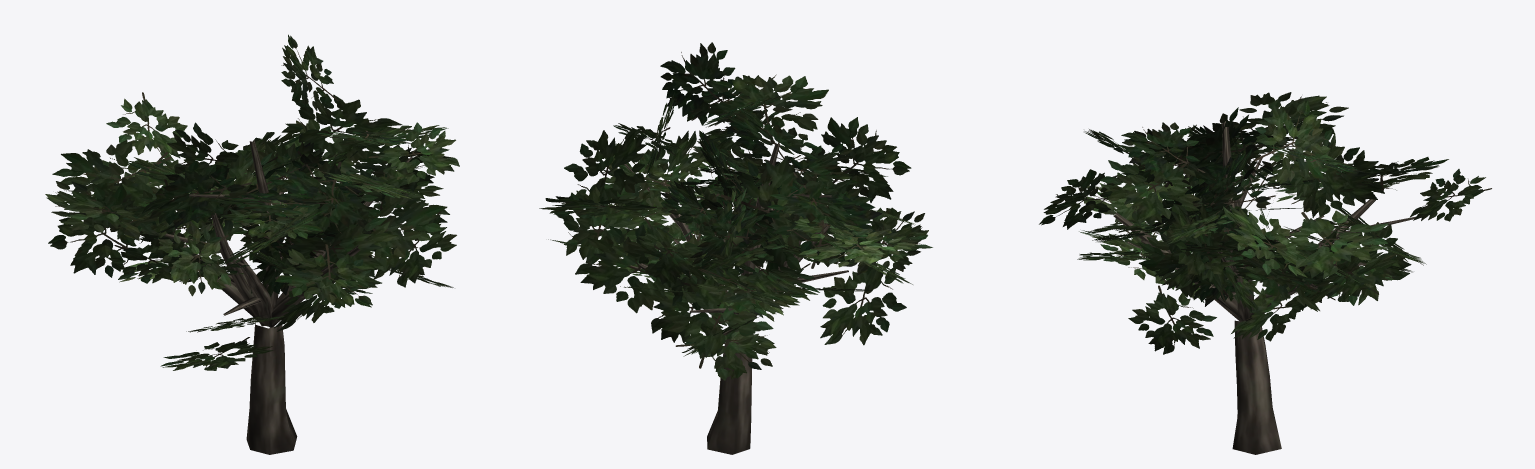
Rendered from arvore_figueira_lod1.glb.
3 views of the same model, side by side, from view 1: azimuth 30°, elevation 25°; view 2: azimuth 150°, elevation 25°; view 3: azimuth 270°, elevation 25° (orthographic). The views are drawn at different scales.
Parts seen in each view (by area): view 1: arvore_figueira_lod1; view 2: arvore_figueira_lod1; view 3: arvore_figueira_lod1.
Boxes of the visible parts, x1,y1,x2,y2 form: arvore_figueira_lod1: (45,34,459,454); arvore_figueira_lod1: (539,42,932,454); arvore_figueira_lod1: (1039,92,1491,454).
Size of the model in its own units: 9.84 by 9 by 10.77.
2 materials, 2 textured.
